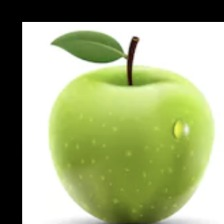apple: (59, 24, 202, 203)
